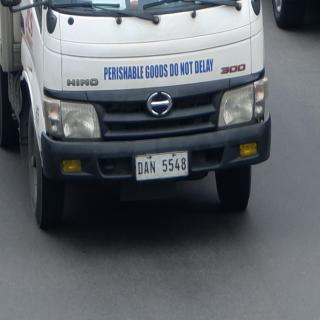license: (137, 152, 190, 182)
